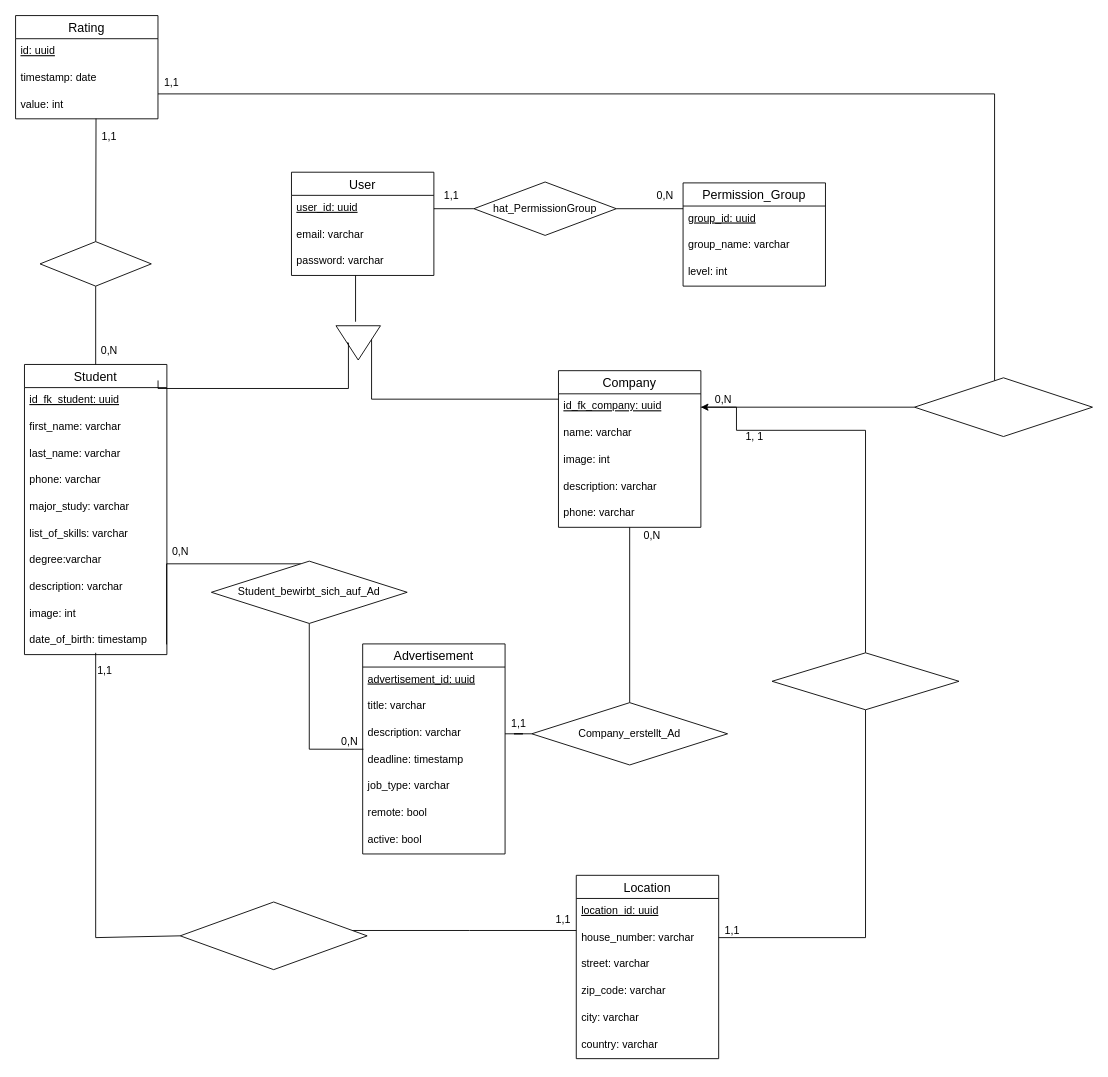
Image size: 1108x1077. Some labels were removed from this diagram. The centre of each missing label's shape, as x and y in pixels:
c_verfasst_R: the point at 1003,407
Company_hat_Location: the point at 865,681
S_macht_R: the point at 95,263
Student_hat_Location: the point at 273,935
t,d: the point at 357,342
